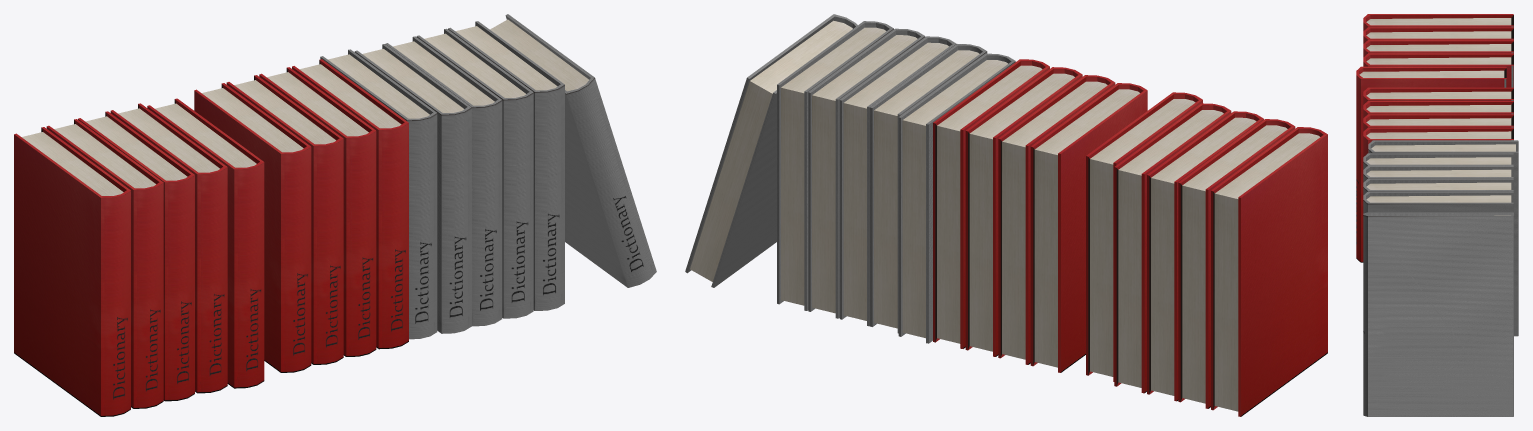
Rendered from Books 1.FBX.
3 views of the same model, side by side, from view 1: azimuth 30°, elevation 25°; view 2: azimuth 150°, elevation 25°; view 3: azimuth 270°, elevation 25° (orthographic). The views are drawn at different scales.
Visible parts, largest first — view 1: Books 1; view 2: Books 1; view 3: Books 1.
Part boxes in pixels (left/top/right/bottom): Books 1: left=14, top=14, right=656, bottom=416; Books 1: left=685, top=14, right=1327, bottom=416; Books 1: left=1356, top=14, right=1518, bottom=416.
Bounding box in the file's own units: 61.78 × 23.27 × 18.64.
1 material, 1 textured.
